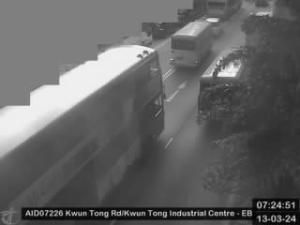bus: (2, 44, 167, 222), (199, 46, 252, 124), (170, 20, 214, 68), (207, 1, 243, 20)
vehicle: (208, 18, 222, 36), (255, 1, 269, 8)
